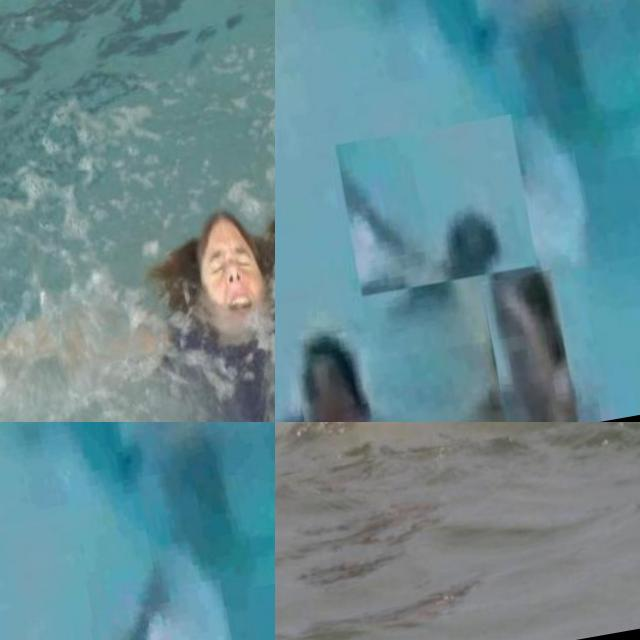drowning: (0, 0, 275, 422), (332, 113, 538, 297), (275, 422, 640, 510), (0, 540, 180, 640)
swimming: (477, 269, 577, 422), (289, 329, 379, 422), (112, 422, 267, 473), (468, 0, 623, 46)
